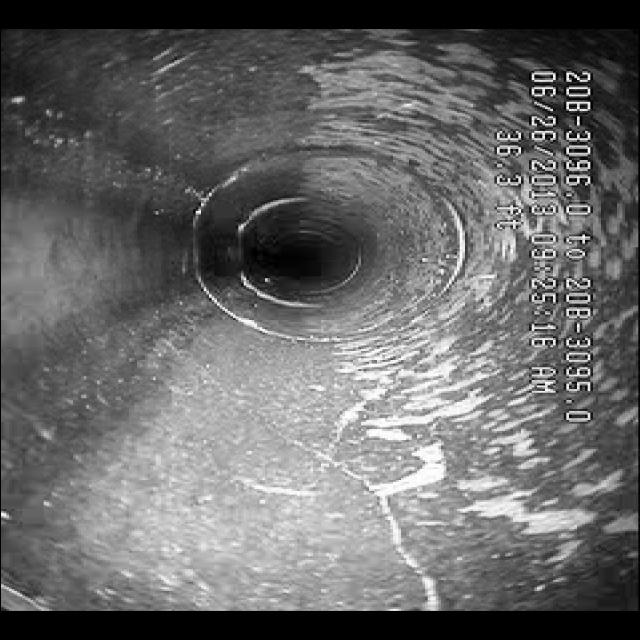Crack: (326, 378, 438, 566)
